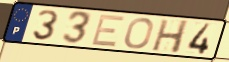3: (60, 10, 92, 46), (31, 9, 60, 42)
4: (185, 22, 212, 56)
E: (89, 14, 127, 48)
H: (150, 18, 191, 55)
O: (123, 17, 155, 50)
